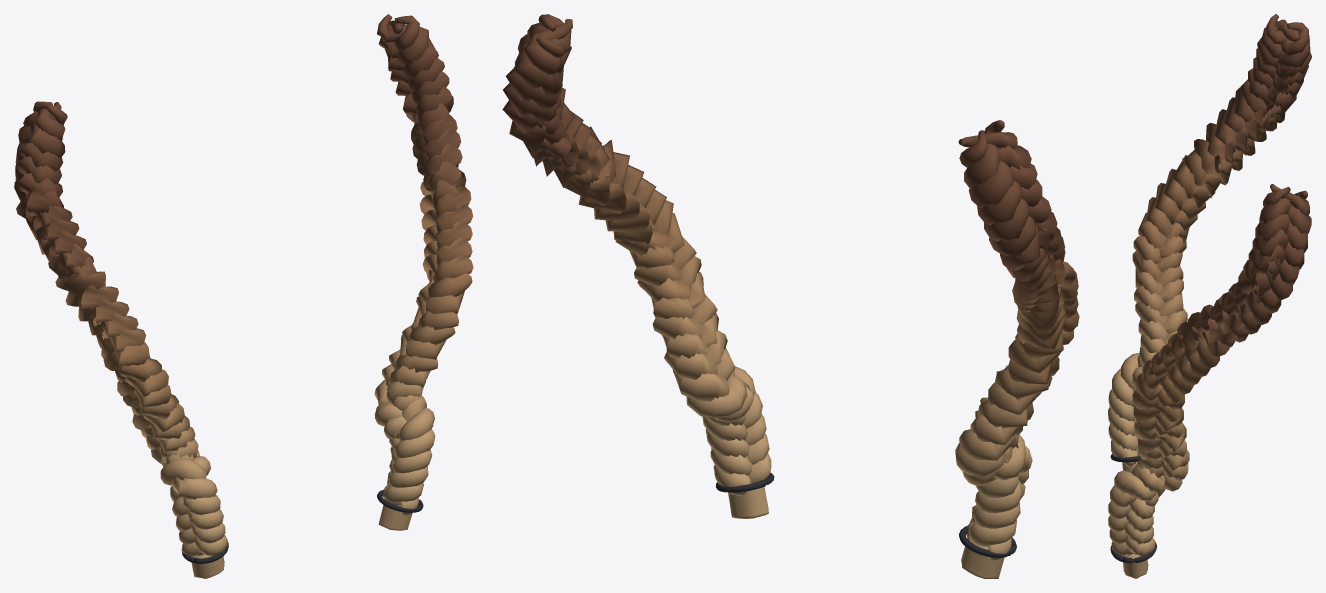
The model's file is Ombre-6e4438610747253-hair.glb.
3 views of the same model, side by side, from view 1: azimuth 30°, elevation 25°; view 2: azimuth 150°, elevation 25°; view 3: azimuth 270°, elevation 25° (orthographic). The views are drawn at different scales.
Visible parts, largest first — view 1: 226 hairLengths / Hair / chestnut226, 226 hairLengths / Hair / ties226; view 2: 226 hairLengths / Hair / chestnut226, 226 hairLengths / Hair / ties226; view 3: 226 hairLengths / Hair / chestnut226, 226 hairLengths / Hair / ties226.
Boxes of the visible parts, left/top/right/bottom form: 226 hairLengths / Hair / chestnut226: left=14, top=14, right=473, bottom=578; 226 hairLengths / Hair / ties226: left=182, top=489, right=423, bottom=563; 226 hairLengths / Hair / chestnut226: left=502, top=14, right=1079, bottom=578; 226 hairLengths / Hair / ties226: left=716, top=473, right=1016, bottom=557; 226 hairLengths / Hair / chestnut226: left=1108, top=14, right=1311, bottom=578; 226 hairLengths / Hair / ties226: left=1110, top=453, right=1156, bottom=563.
Size of the model in its own units: 1.09 by 1.06 by 0.4549.
Materials: 2 (1 with a texture image).
